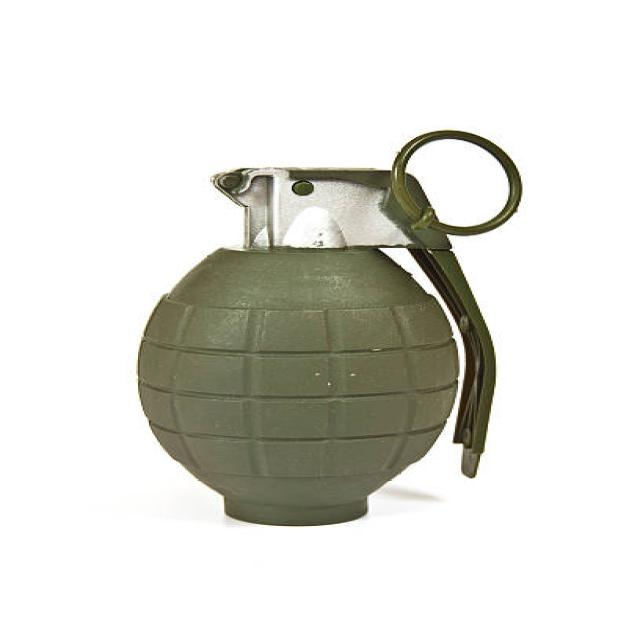grenade: (123, 120, 555, 534)
